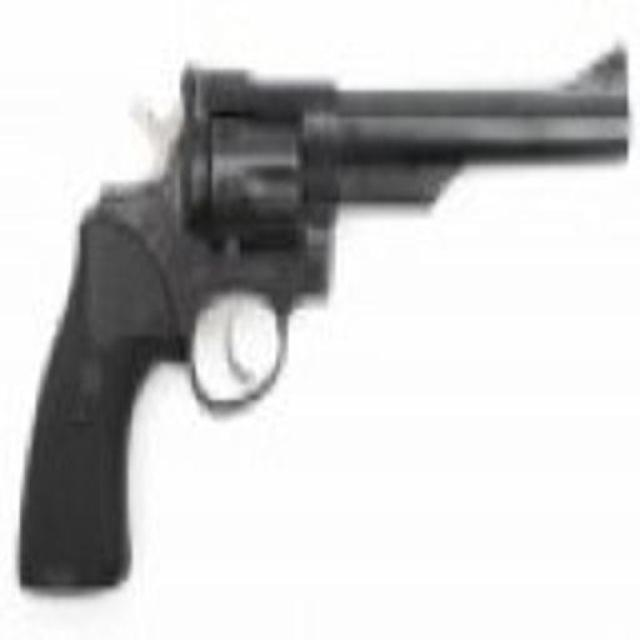pistol: (7, 36, 631, 596)
